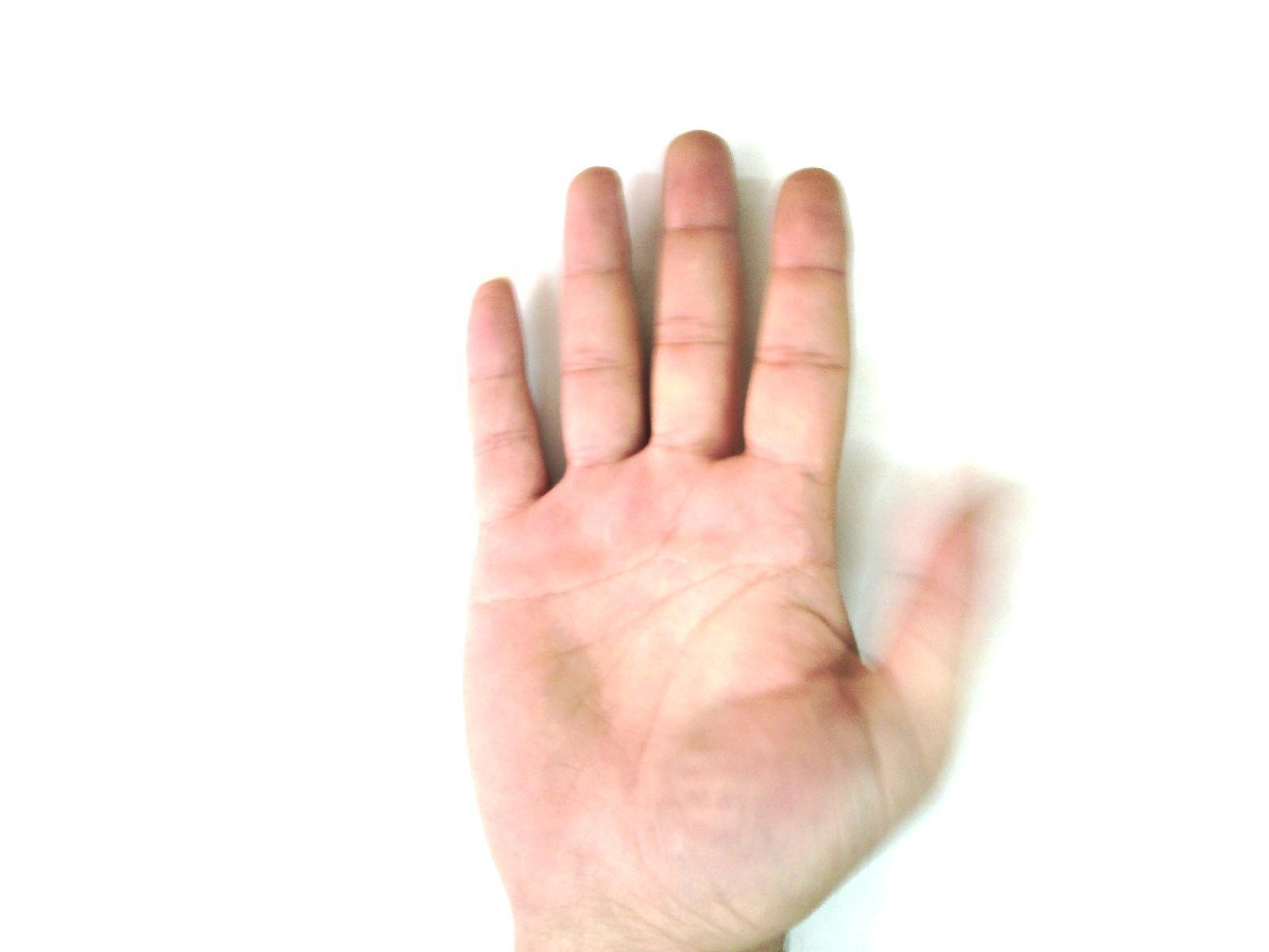open_palm: (456, 129, 1025, 951)
